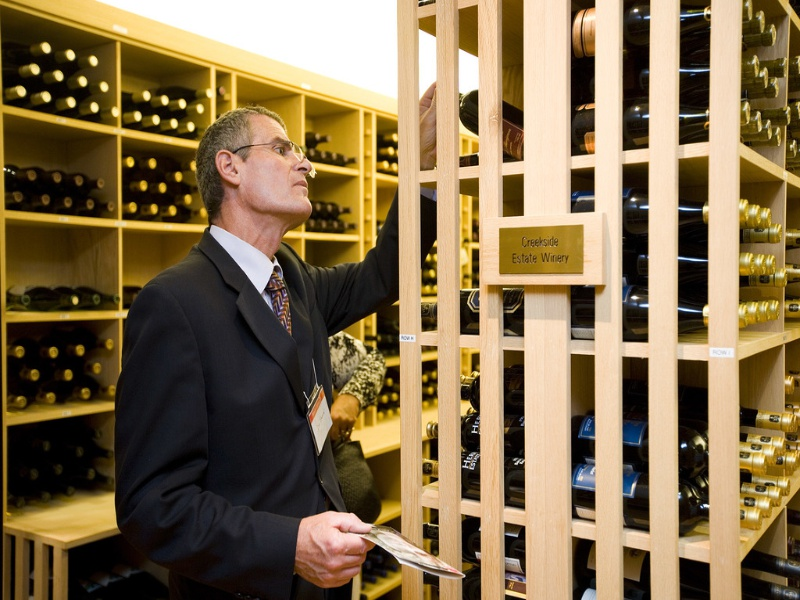wine: (464, 5, 794, 600), (3, 8, 116, 508), (123, 41, 196, 222)
